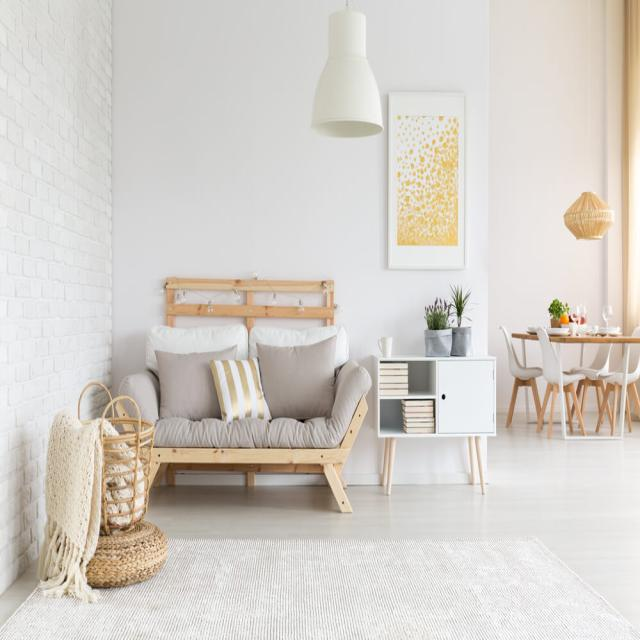modern chair: (530, 327, 585, 446), (503, 312, 544, 430)
modern shelf: (374, 304, 498, 498)
modern sofa: (117, 312, 370, 529)
